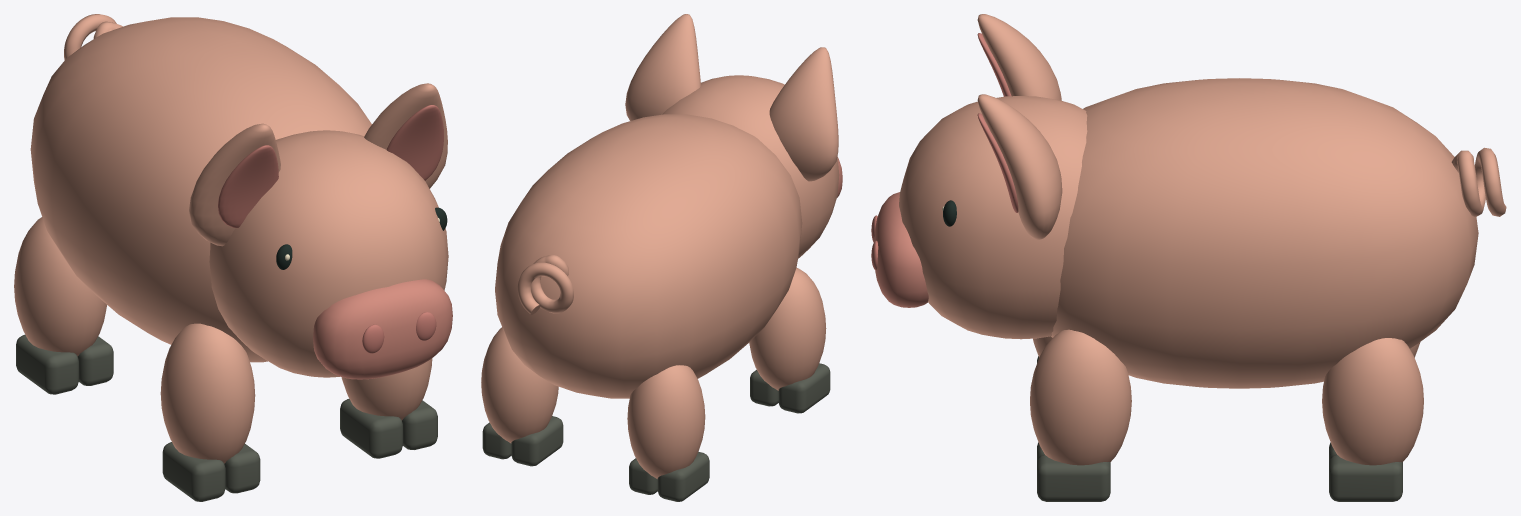
Rendered from pig.glb.
3 renders of one model, left to right at view 1: azimuth 30°, elevation 25°; view 2: azimuth 150°, elevation 25°; view 3: azimuth 270°, elevation 25°, orthographic. The views are drawn at different scales.
Parts seen in each view (by area): view 1: PigBody, Head, Leg, Snout, Leg.001, FloppyEar, Leg.002, InnerEar, InnerEar.001, FloppyEar.001, ClovenHoof, ClovenHoof.002 (+6 smaller); view 2: PigBody, Head, Leg.001, FloppyEar, Leg, Leg.003, FloppyEar.001, CurlyTail, ClovenHoof, ClovenHoof.002, ClovenHoof.006, ClovenHoof.007 (+2 smaller); view 3: PigBody, Head, Leg.002, Leg.003, FloppyEar.001, Snout, FloppyEar, ClovenHoof.007, ClovenHoof.005, CurlyTail, InnerEar.001.
Boxes of the visible parts, x1=… form: PigBody: x1=30, y1=17, x2=371, y2=362; Head: x1=209, y1=130, x2=448, y2=377; Leg: x1=160, y1=323, x2=255, y2=463; Snout: x1=313, y1=279, x2=452, y2=379; Leg.001: x1=14, y1=217, x2=106, y2=356; FloppyEar: x1=189, y1=123, x2=280, y2=246; Leg.002: x1=341, y1=358, x2=432, y2=420; InnerEar: x1=218, y1=145, x2=278, y2=228; InnerEar.001: x1=386, y1=105, x2=443, y2=180; FloppyEar.001: x1=364, y1=83, x2=447, y2=188; ClovenHoof: x1=162, y1=442, x2=225, y2=501; ClovenHoof.002: x1=16, y1=334, x2=78, y2=394; PigBody: x1=495, y1=114, x2=802, y2=398; Head: x1=662, y1=75, x2=839, y2=258; Leg.001: x1=627, y1=365, x2=705, y2=478; FloppyEar: x1=769, y1=47, x2=838, y2=181; Leg: x1=749, y1=267, x2=826, y2=390; Leg.003: x1=481, y1=327, x2=558, y2=443; FloppyEar.001: x1=625, y1=14, x2=700, y2=120; CurlyTail: x1=517, y1=255, x2=573, y2=314; ClovenHoof: x1=778, y1=363, x2=830, y2=413; ClovenHoof.002: x1=657, y1=451, x2=709, y2=501; ClovenHoof.006: x1=511, y1=416, x2=563, y2=466; ClovenHoof.007: x1=482, y1=422, x2=511, y2=459; PigBody: x1=1051, y1=78, x2=1478, y2=388; Head: x1=899, y1=96, x2=1087, y2=339; Leg.002: x1=1030, y1=329, x2=1131, y2=465; Leg.003: x1=1322, y1=338, x2=1423, y2=465; FloppyEar.001: x1=977, y1=94, x2=1062, y2=239; Snout: x1=874, y1=192, x2=928, y2=307; FloppyEar: x1=977, y1=14, x2=1061, y2=100; ClovenHoof.007: x1=1329, y1=455, x2=1402, y2=501; ClovenHoof.005: x1=1037, y1=454, x2=1110, y2=501; CurlyTail: x1=1451, y1=147, x2=1506, y2=217; InnerEar.001: x1=977, y1=113, x2=1018, y2=212.
Size of the model in its own units: 0.88 by 1.22 by 1.8.
